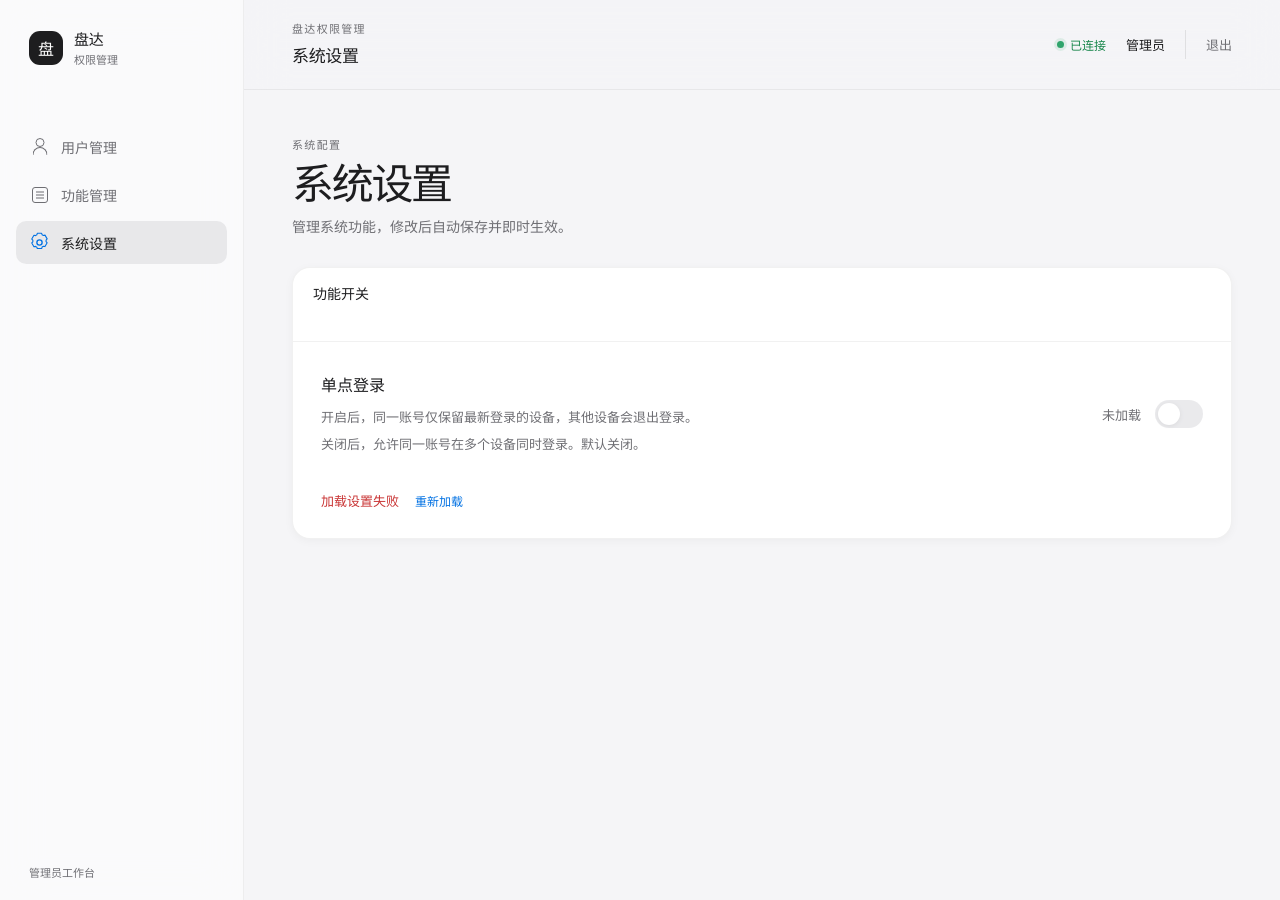
Test: a failed load can be retried without allowing an unknown setting to be overwritten
Expected: the switch named "单点登录" is disabled, [1155,400,1203,428]
Expected: the message "加载设置失败" is shown, [321,491,399,510]
Click the button "重新加载": (439, 500) [415,487,463,514]
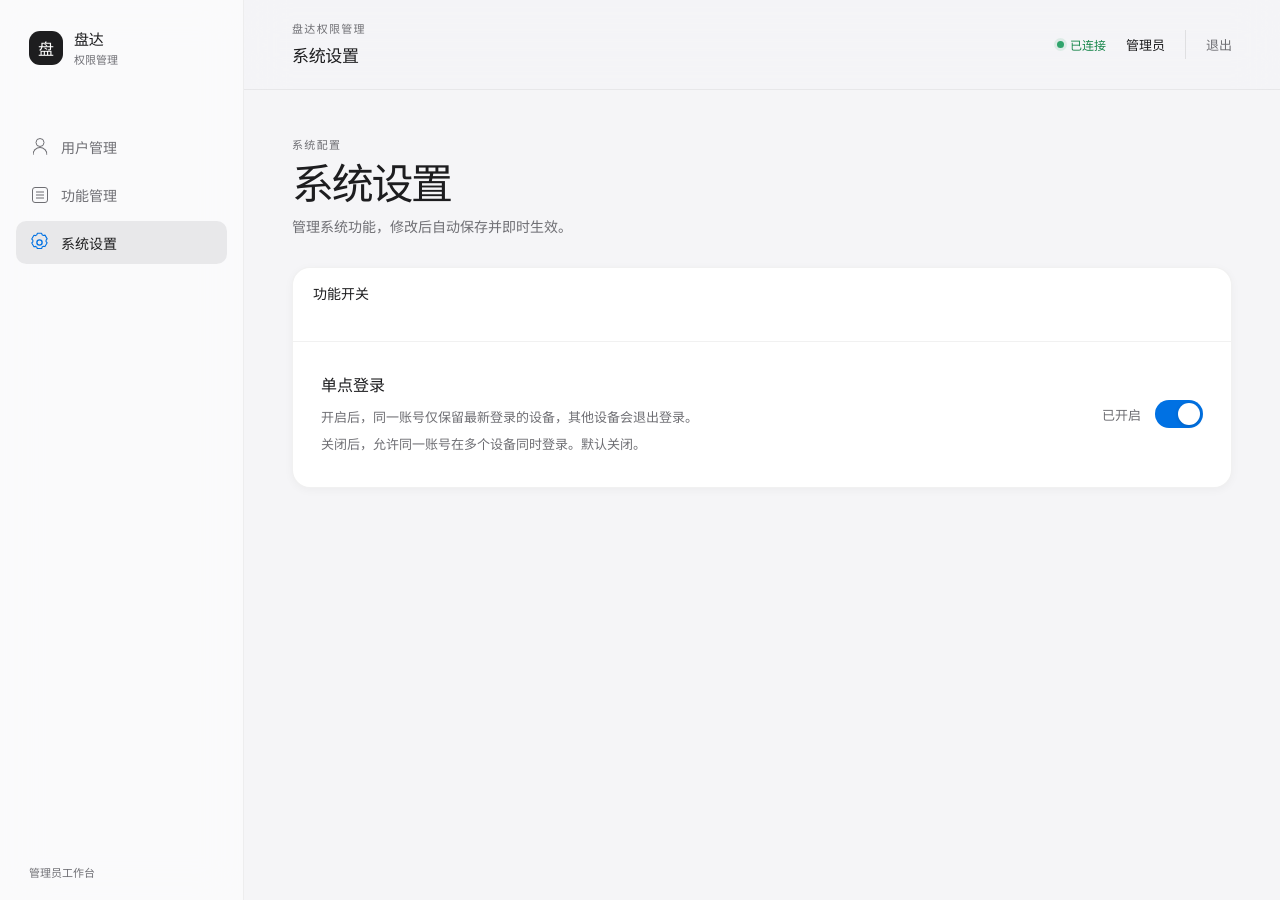
Expected: the switch named "单点登录" is enabled, [1155,400,1203,428]
